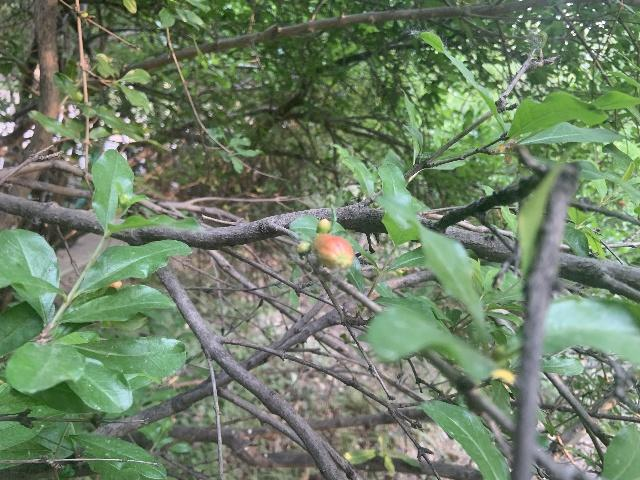bud: (313, 233, 353, 269), (317, 218, 330, 233)
